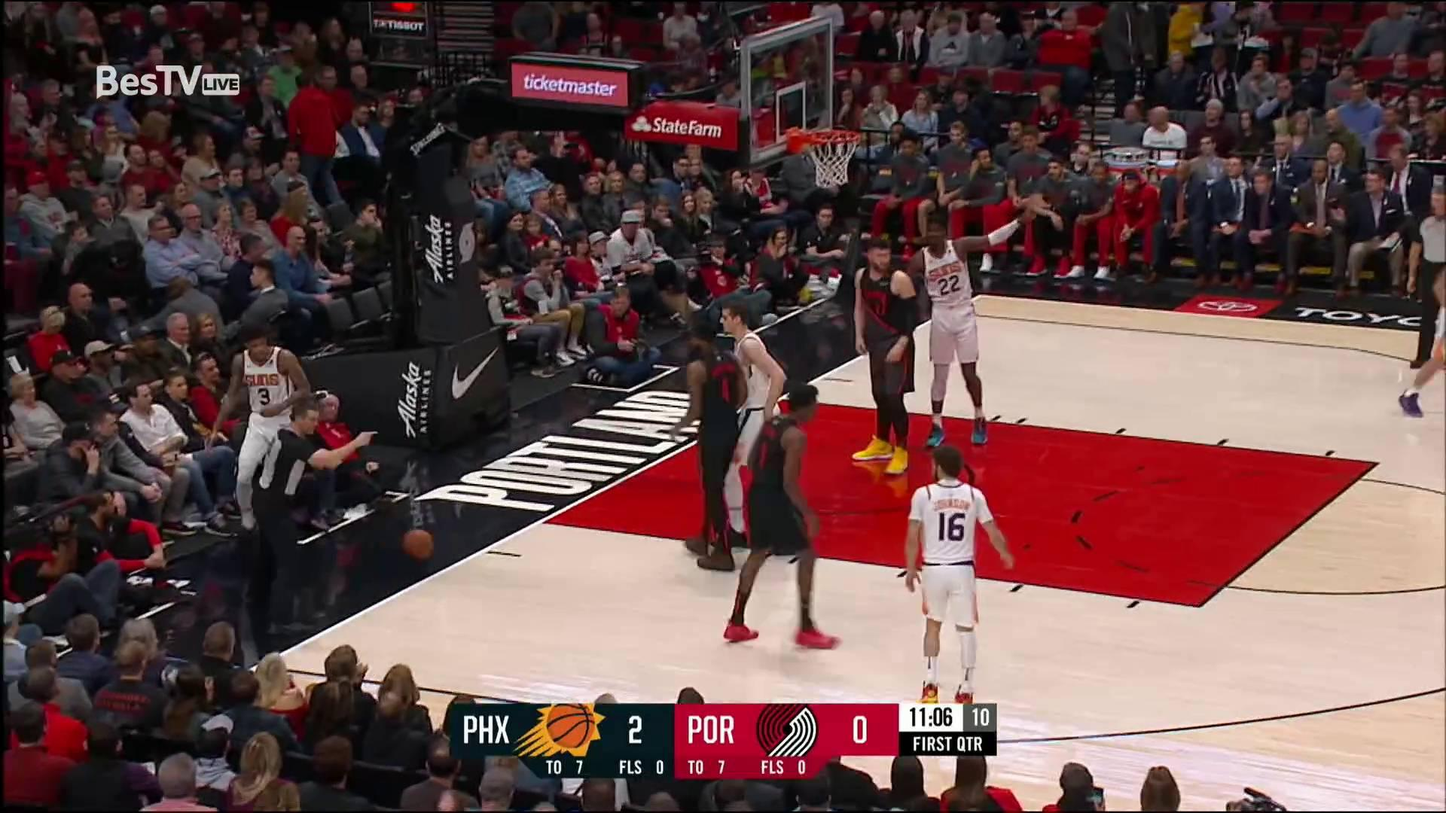basketball: (399, 531, 435, 561)
